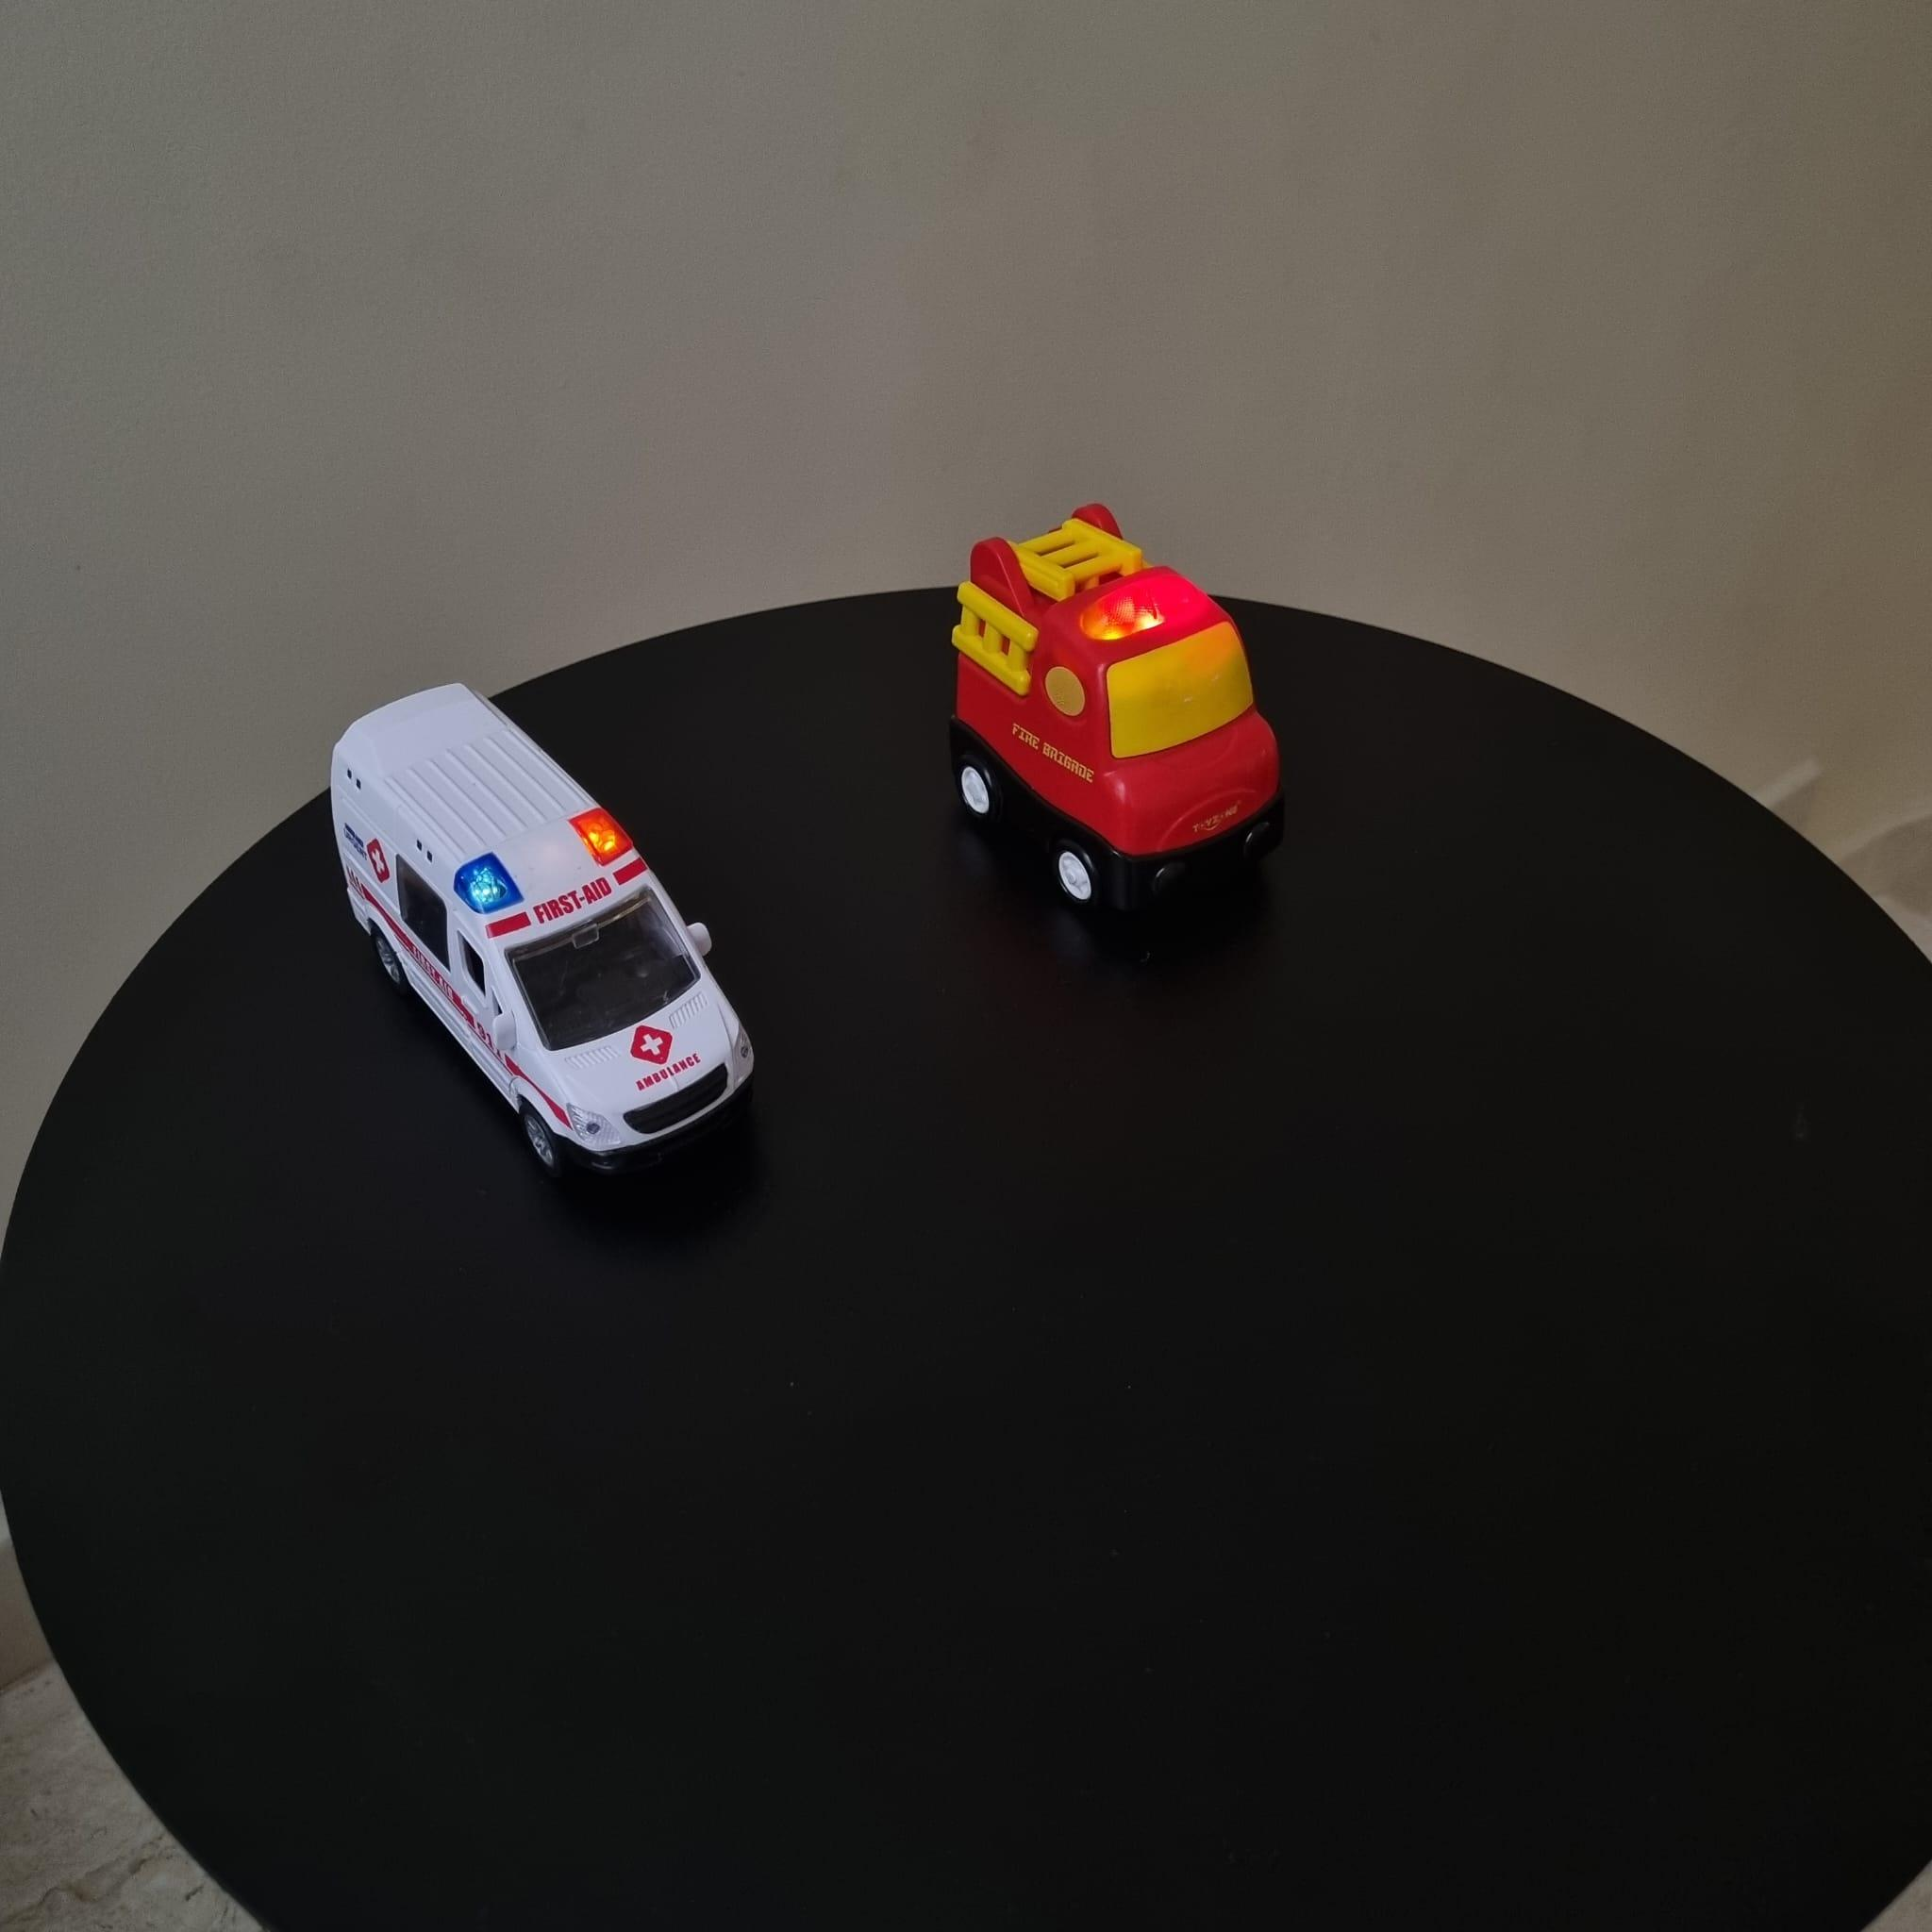ambulance_on: (326, 676, 770, 1194)
firetruck_on: (954, 501, 1286, 931)
